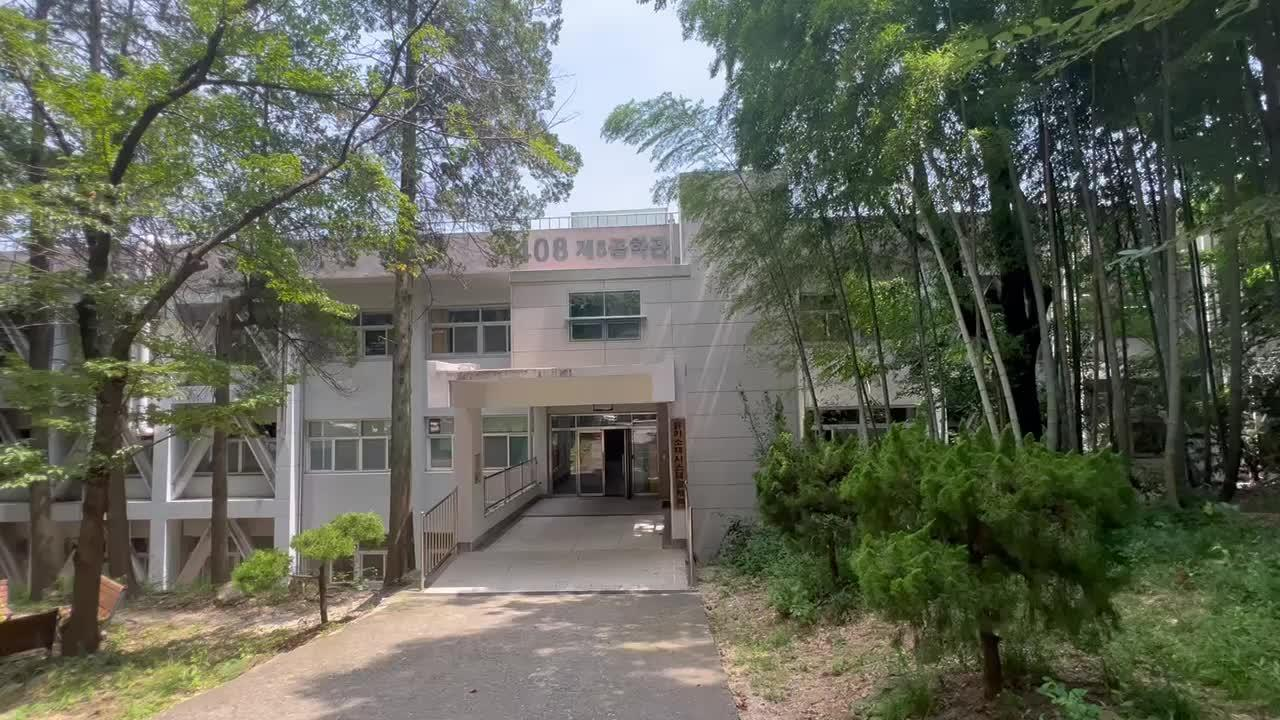building: (314, 220, 771, 568)
